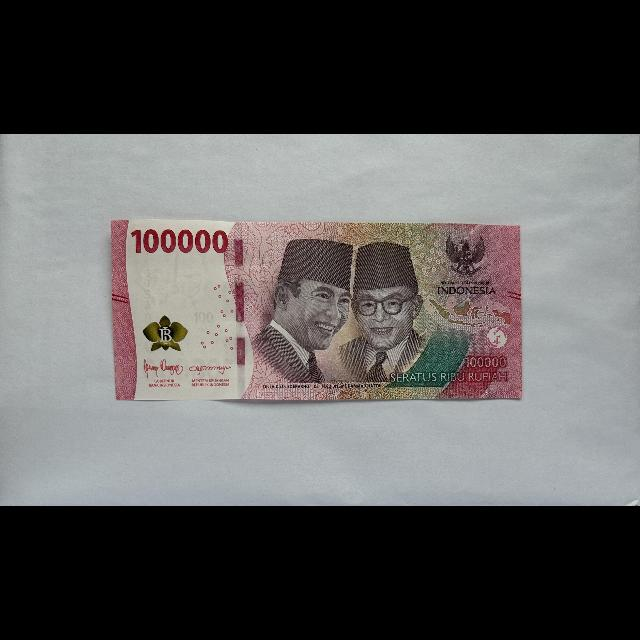Asli-100k: (109, 218, 524, 402)
Tinta-Asli-100k: (142, 315, 189, 354)
